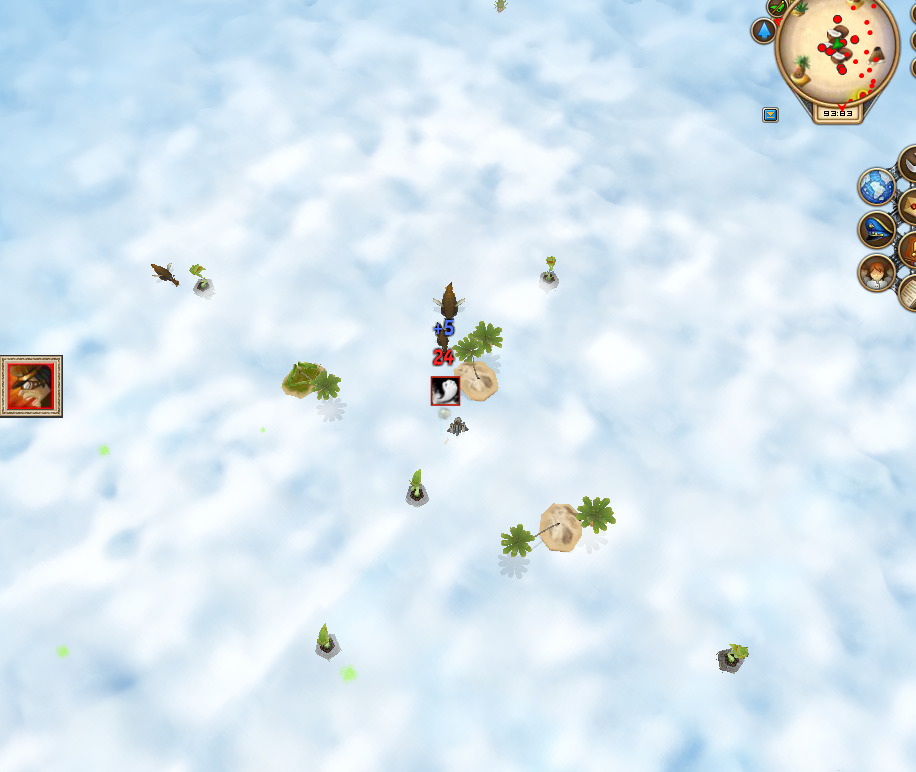palm: (496, 493, 617, 576), (448, 321, 508, 406), (273, 358, 352, 419)
